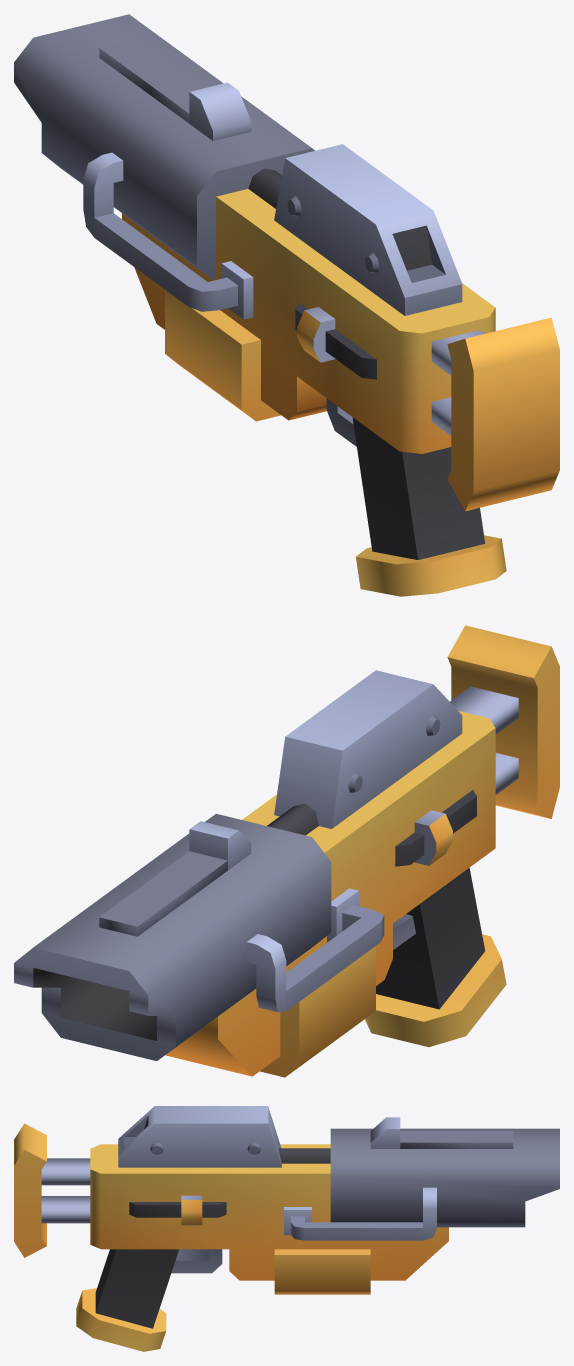
File: blaster-g.glb
3 renders of one model, top to bottom at view 1: azimuth 30°, elevation 25°; view 2: azimuth 150°, elevation 25°; view 3: azimuth 270°, elevation 25°, orthographic. The views are drawn at different scales.
Visible parts, largest first — view 1: blaster-g; view 2: blaster-g; view 3: blaster-g.
Boxes of the visible parts, box(x1,y1,x2,y2) form: blaster-g: box(14, 14, 559, 596); blaster-g: box(14, 625, 559, 1077); blaster-g: box(14, 1106, 559, 1351).
Size of the model in its own units: 0.2 by 0.3579 by 0.7859.
1 material, 1 textured.
